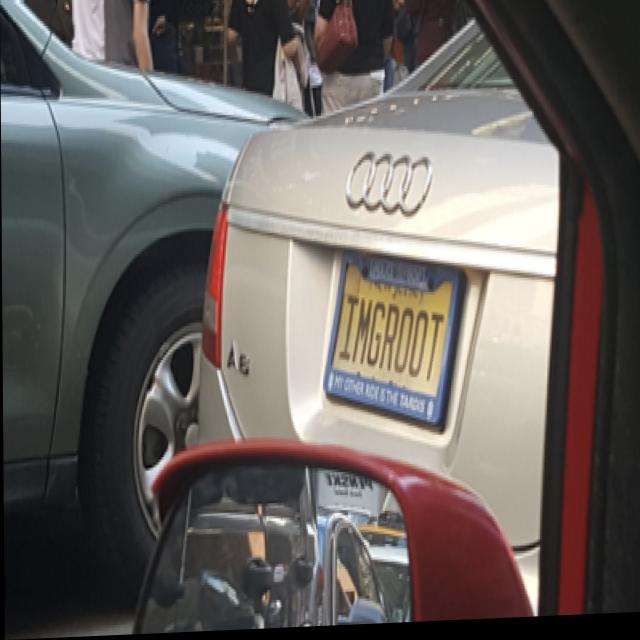licence: (326, 245, 449, 432)
